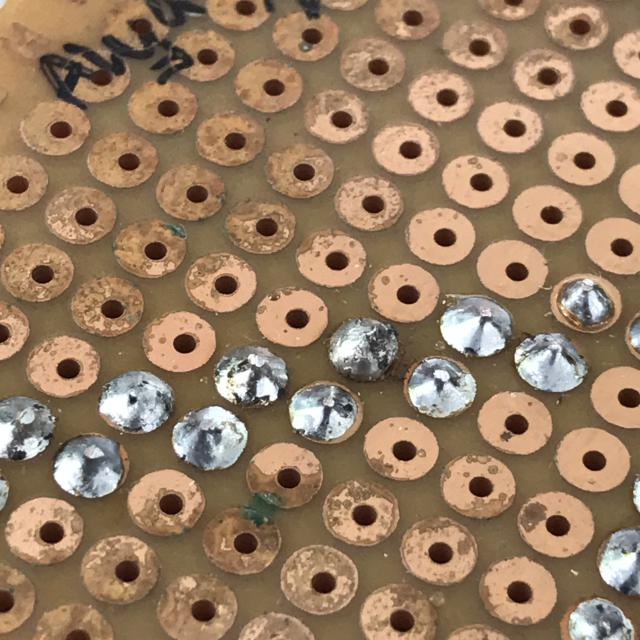good: (162, 398, 256, 474), (208, 340, 295, 411), (510, 327, 595, 399), (323, 314, 404, 385), (435, 293, 518, 362)
pad_less: (46, 426, 144, 506), (284, 376, 376, 450), (397, 349, 483, 425), (544, 268, 631, 340)
